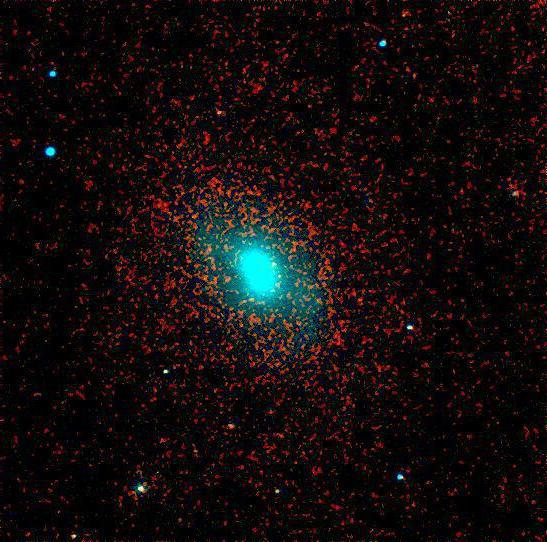star: (307, 285, 337, 315)
